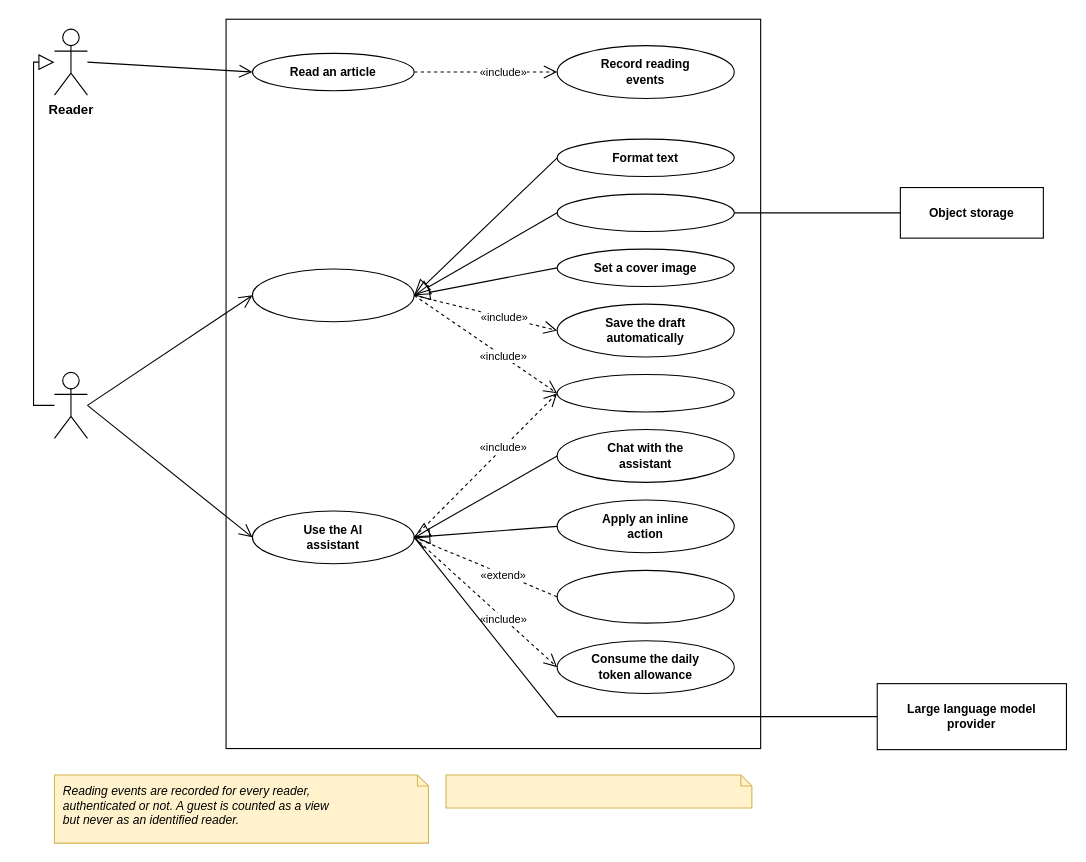
This 1086x862 diagram has some shape labels left out. Each missing label, with the centre of its shape:
Insert an image: point 645,212
Insert the answer into the document: point 645,596
Sign in: point 645,392
Write in the rich editor: point 332,295
Writer: point 70,404
«Use the AI assistant»: [plan = premium]: point 598,791
